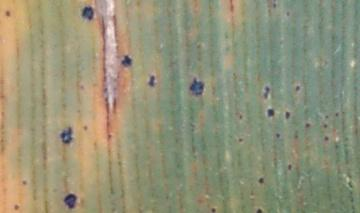tarspot: (187, 75, 205, 97), (59, 126, 73, 147), (62, 193, 79, 210), (79, 5, 94, 23), (119, 54, 134, 67), (261, 84, 272, 100), (265, 106, 275, 119), (147, 72, 155, 88), (227, 1, 236, 13), (292, 128, 300, 141), (283, 110, 291, 121), (284, 9, 292, 19), (222, 30, 230, 40), (321, 123, 329, 132), (286, 162, 293, 172), (274, 130, 281, 140), (20, 178, 28, 186), (271, 1, 279, 9), (13, 203, 20, 212), (294, 84, 301, 93), (257, 176, 264, 185), (303, 121, 310, 130), (194, 42, 203, 49), (347, 179, 354, 188), (209, 206, 217, 213), (81, 124, 89, 131), (254, 207, 263, 213), (237, 136, 244, 143), (4, 9, 10, 17), (237, 114, 244, 120), (323, 135, 329, 142), (324, 114, 330, 121), (333, 111, 338, 119), (340, 109, 346, 114)
